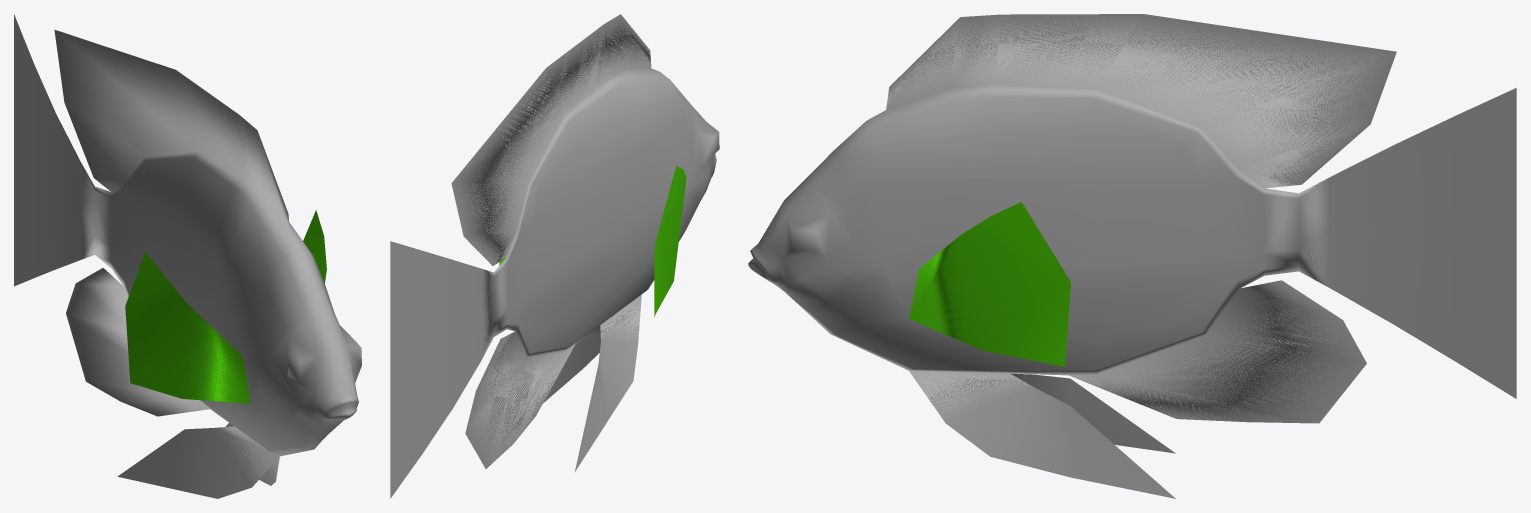
The model's file is Pomacentridae_B_S.fbx.
3 views of the same model, side by side, from view 1: azimuth 30°, elevation 25°; view 2: azimuth 150°, elevation 25°; view 3: azimuth 270°, elevation 25° (orthographic). The views are drawn at different scales.
Visible parts, largest first — view 1: Pomacentridae_B_S_Mesh; view 2: Pomacentridae_B_S_Mesh; view 3: Pomacentridae_B_S_Mesh.
Boxes of the visible parts, left/top/right/bottom form: Pomacentridae_B_S_Mesh: left=14, top=14, right=361, bottom=498; Pomacentridae_B_S_Mesh: left=390, top=14, right=719, bottom=498; Pomacentridae_B_S_Mesh: left=748, top=14, right=1516, bottom=498.
Bounding box in the file's own units: 0.00304 × 0.0069 × 0.0103.
